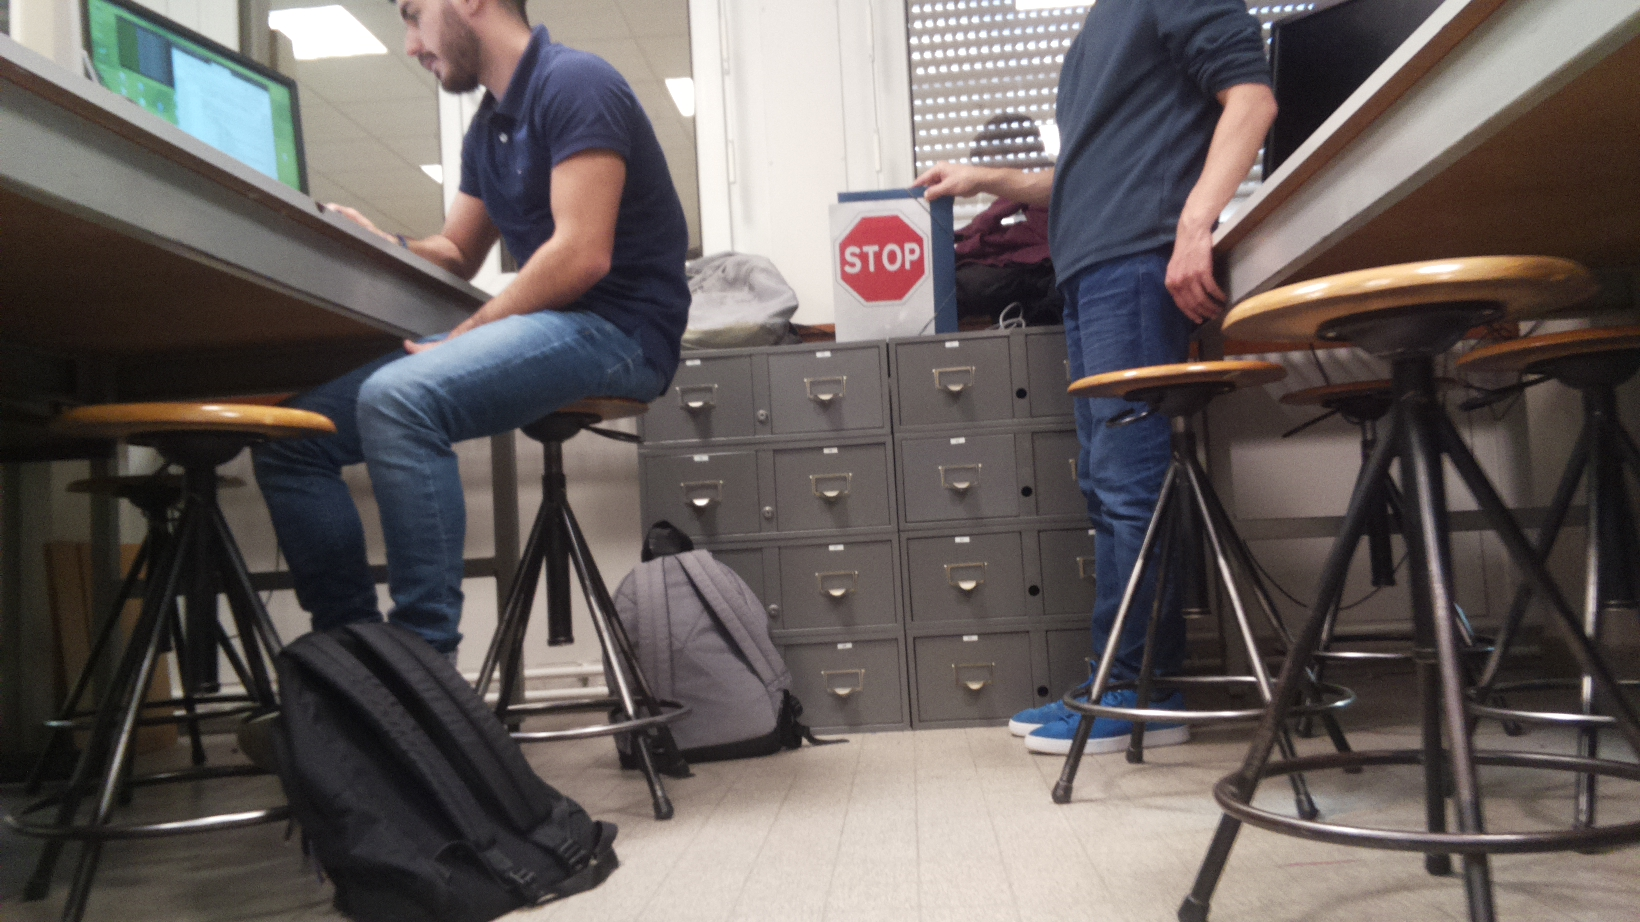stop: (835, 209, 930, 307)
